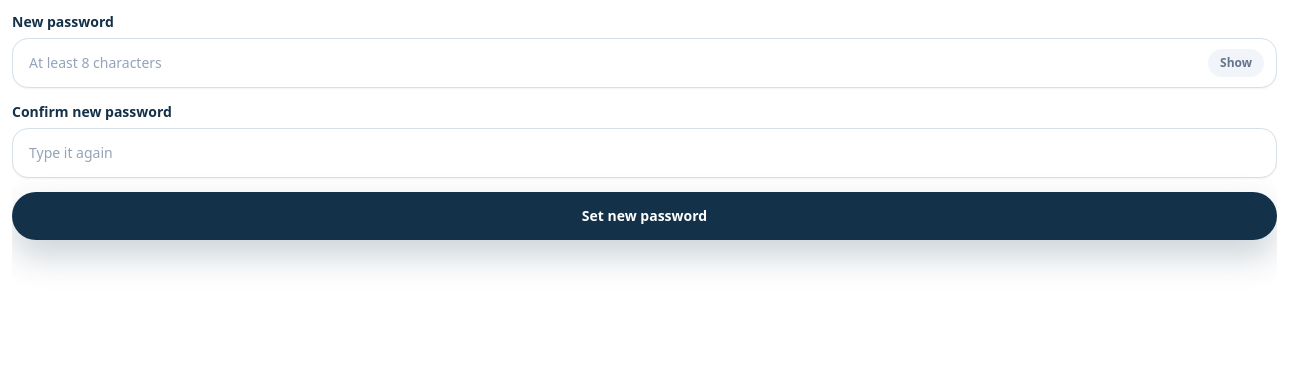
it: ResetPasswordPage › lists the backend password validator messages
Step 1. Type "12345678" into the password field labelled "New password" → (612, 63), box [25,39,1200,87]
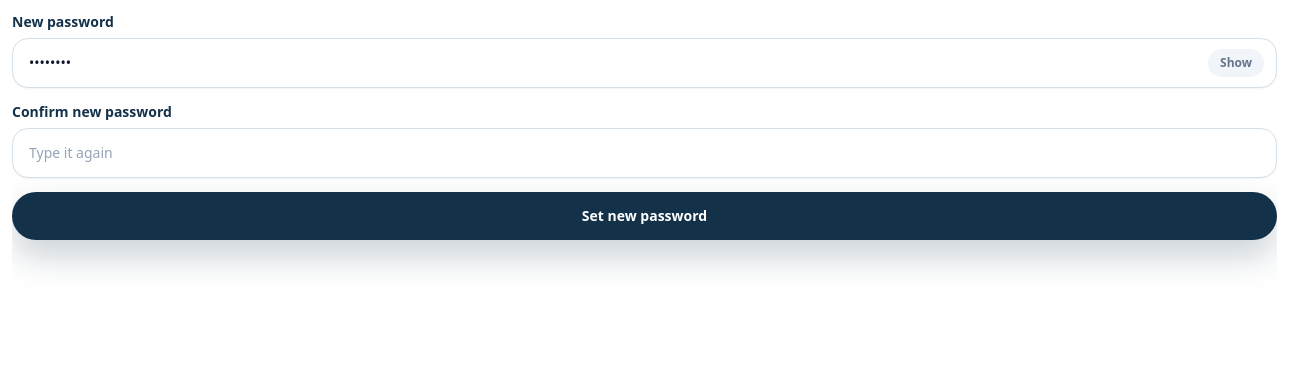
Step 2. Type "12345678" into the password field labelled "Confirm new password" → (644, 153), box [25,129,1264,177]
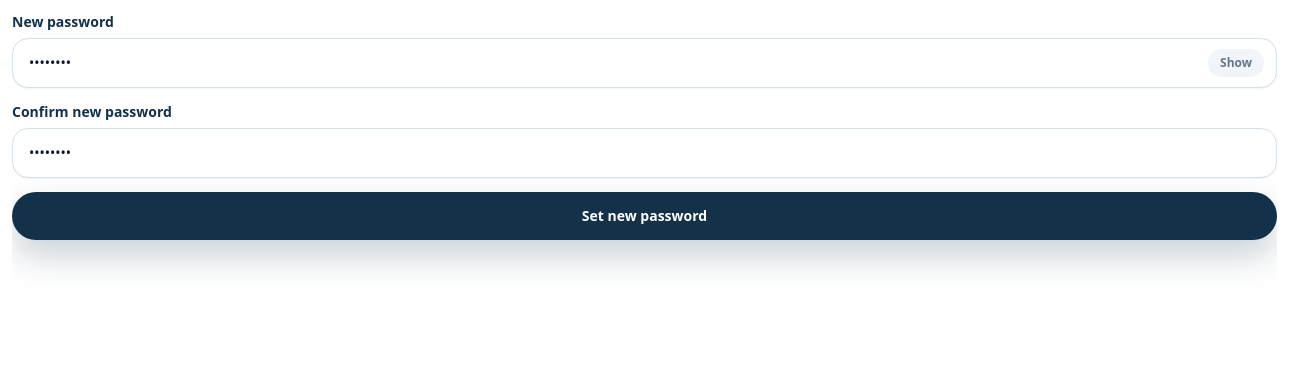
Step 3. Click the button "Set new password" → (644, 216), box [12,192,1277,240]
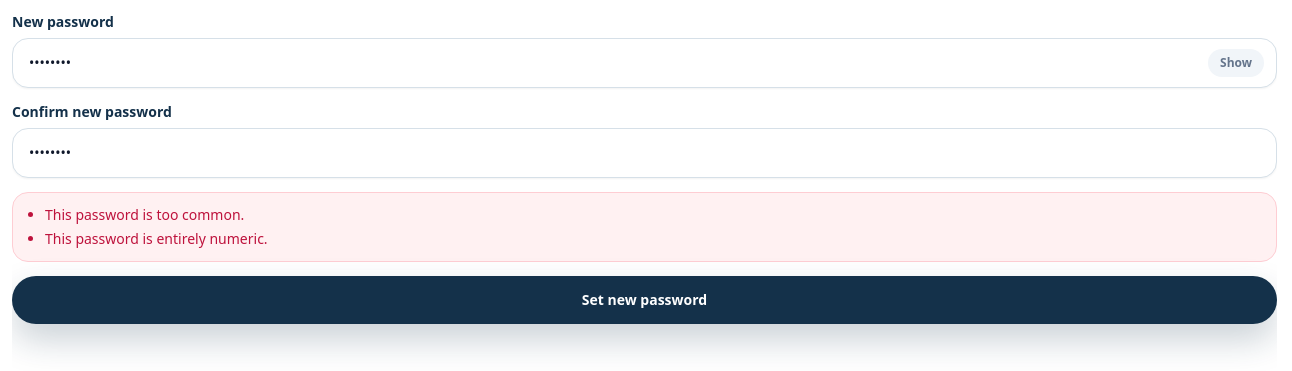
Check: the button "Set new password" is shown, box [12,276,1277,324]
Check: the list item "This password is too common." is shown, box [45,205,244,224]
Check: the list item "This password is entirely numeric." is shown, box [45,229,268,248]
